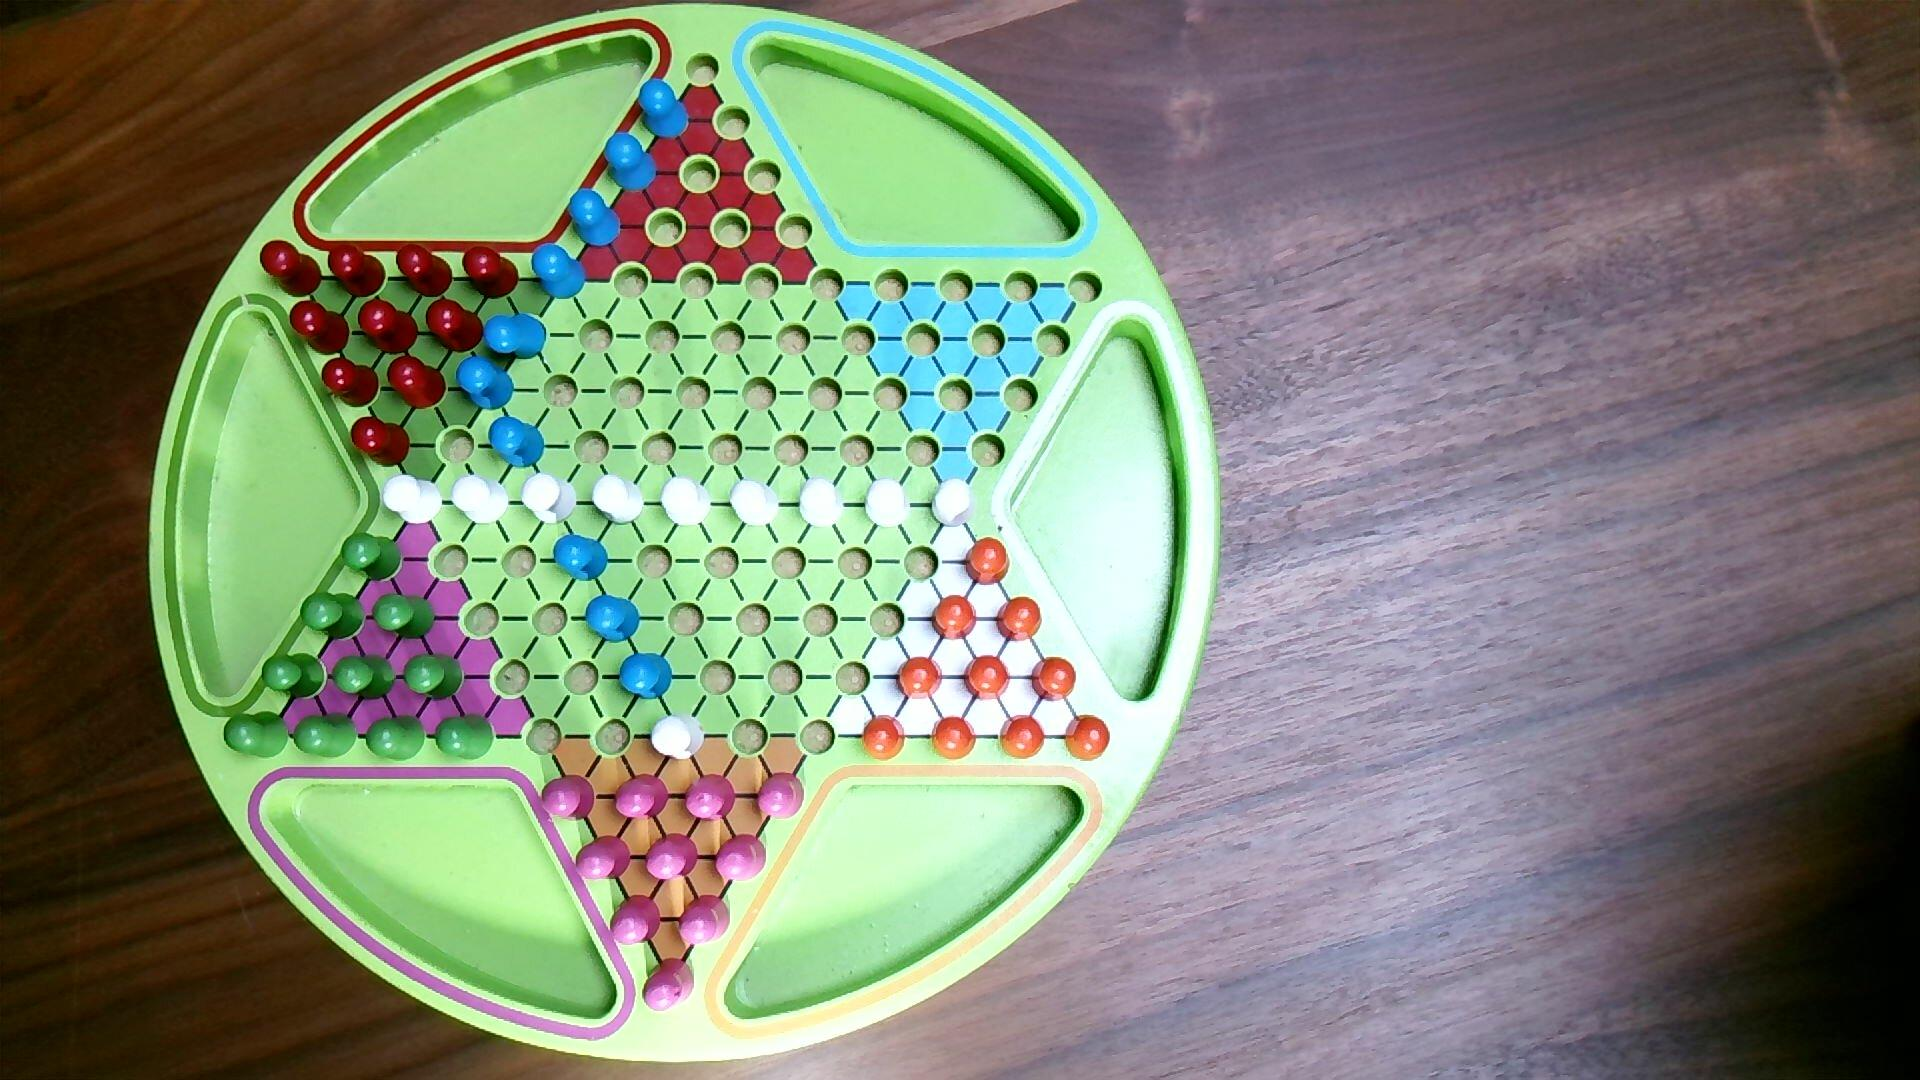B: (564, 186, 624, 251), (601, 131, 659, 196), (454, 353, 517, 413), (636, 76, 692, 142), (530, 241, 588, 302), (483, 310, 549, 363), (487, 414, 547, 471), (583, 592, 644, 645), (551, 531, 611, 584), (616, 651, 675, 703)
G: (298, 589, 368, 644), (338, 530, 405, 584), (222, 709, 291, 761), (371, 591, 436, 644), (330, 653, 398, 703), (261, 651, 328, 702), (401, 651, 465, 703), (363, 713, 429, 764), (291, 712, 359, 761), (434, 712, 497, 764)
O: (1062, 712, 1113, 765), (963, 651, 1013, 704), (1029, 653, 1079, 704), (963, 535, 1011, 588), (928, 713, 978, 764), (928, 593, 978, 644), (994, 595, 1044, 645), (860, 712, 909, 764), (997, 713, 1047, 762), (894, 655, 945, 702)
R: (258, 239, 324, 301), (356, 297, 421, 357), (287, 299, 353, 357), (425, 295, 487, 356), (324, 241, 388, 301), (386, 353, 448, 413), (394, 241, 455, 301), (349, 414, 413, 469), (462, 244, 521, 302), (320, 355, 382, 410)
R2: (640, 956, 698, 1014), (608, 893, 663, 948), (676, 894, 733, 947), (644, 831, 700, 884), (682, 773, 738, 825), (574, 833, 633, 884), (612, 773, 673, 822), (715, 831, 769, 885), (541, 773, 597, 824), (754, 770, 807, 823)
W: (381, 473, 444, 527), (520, 471, 579, 527), (450, 473, 512, 527), (657, 475, 713, 530), (589, 473, 646, 527), (649, 712, 707, 765), (727, 477, 782, 530), (796, 475, 847, 531), (862, 477, 913, 531), (928, 476, 978, 530)
